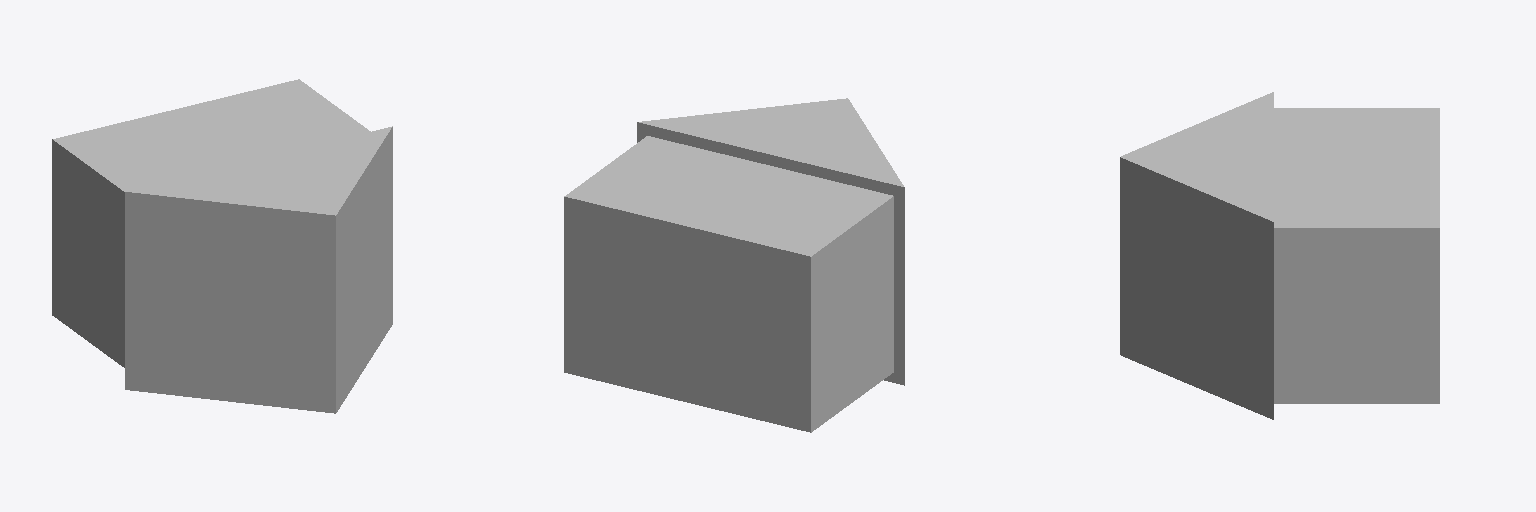
File: house.obj
The picture shows the model from 3 angles: view 1: azimuth 30°, elevation 25°; view 2: azimuth 150°, elevation 25°; view 3: azimuth 270°, elevation 25°; orthographic projection.
Visible parts, largest first — view 1: Cube.001; view 2: Cube.001; view 3: Cube.001.
Boxes of the visible parts, x1,y1,x2,y2 form: Cube.001: [52, 79, 392, 413]; Cube.001: [564, 98, 904, 432]; Cube.001: [1120, 92, 1439, 419].
Size of the model in its own units: 2.83 by 2 by 2.93.